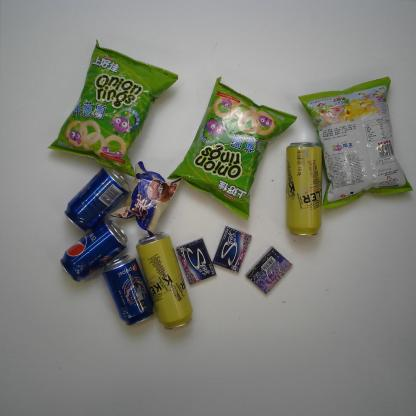Alcohol: (137, 230, 197, 333), (280, 138, 331, 242)
Dessert: (115, 158, 182, 238)
Drink: (48, 219, 128, 284), (103, 255, 155, 331), (63, 171, 125, 231)
Gum: (245, 246, 293, 298), (211, 225, 257, 277), (174, 237, 216, 285)
Puffed Food: (169, 72, 290, 230), (52, 39, 178, 179), (300, 78, 412, 212)
